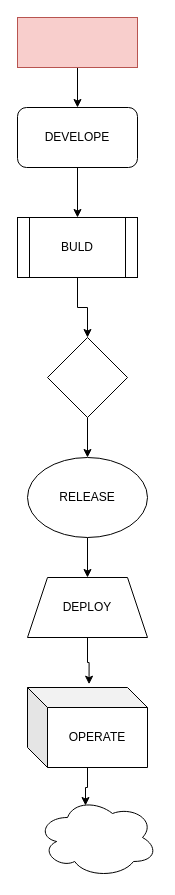
The diagram is 175 pixels wide and 895 high, and some of its shapes have lost their labels. Each missing label, with the centre of its shape:
"MONITOR" goes at pixel 97 837.
"PLANE" goes at pixel 77 42.
"TEST" goes at pixel 87 377.
